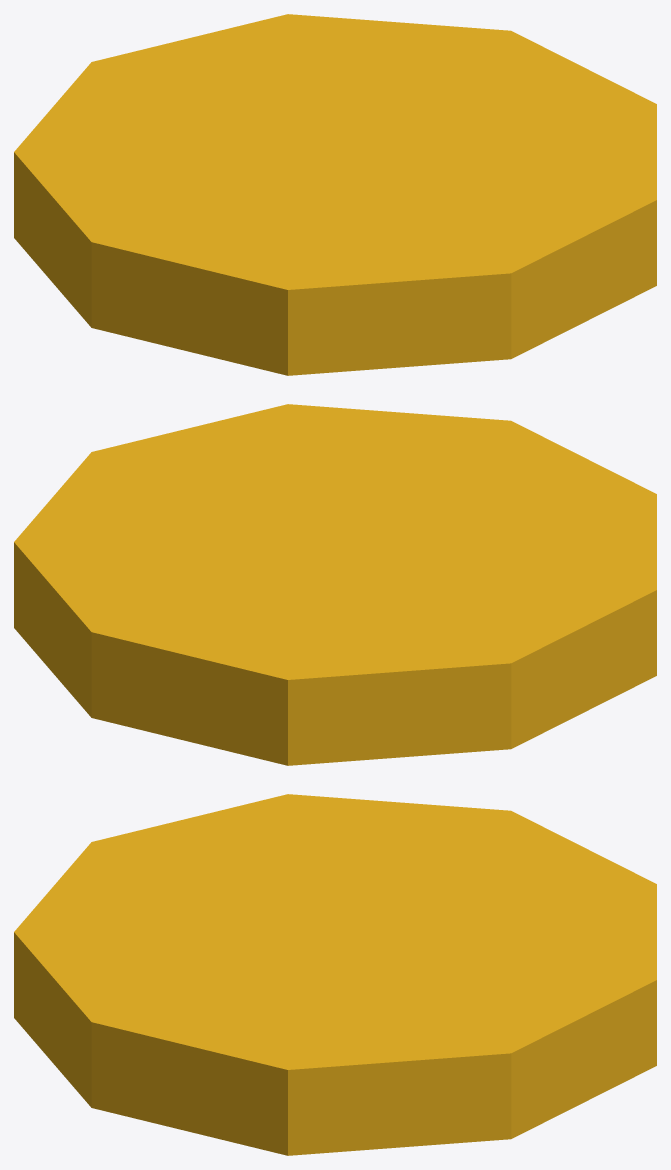
File: splat_egg.glb
3 renders of one model, top to bottom at view 1: azimuth 30°, elevation 25°; view 2: azimuth 150°, elevation 25°; view 3: azimuth 270°, elevation 25°, orthographic.
Visible parts, largest first — view 1: splat_egg_yolk; view 2: splat_egg_yolk; view 3: splat_egg_yolk.
Part boxes in pixels (x1,y1,x2,y2): splat_egg_yolk: (14, 14, 656, 375); splat_egg_yolk: (14, 404, 656, 765); splat_egg_yolk: (14, 794, 656, 1155).
Size of what is drawn, in the model's own units: 0.0689 by 0.01 by 0.0679.
